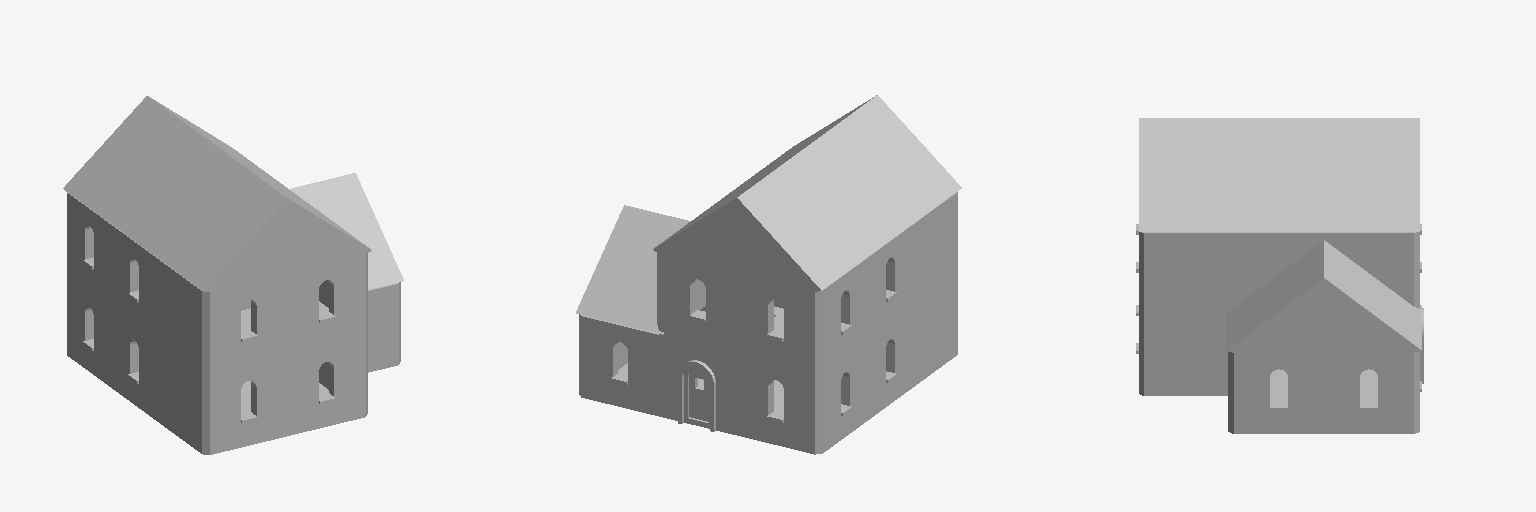
File: House9.obj
The picture shows the model from 3 angles: view 1: azimuth 30°, elevation 25°; view 2: azimuth 150°, elevation 25°; view 3: azimuth 270°, elevation 25°; orthographic projection.
Size of the model in its own units: 3.19 by 2.92 by 3.21.